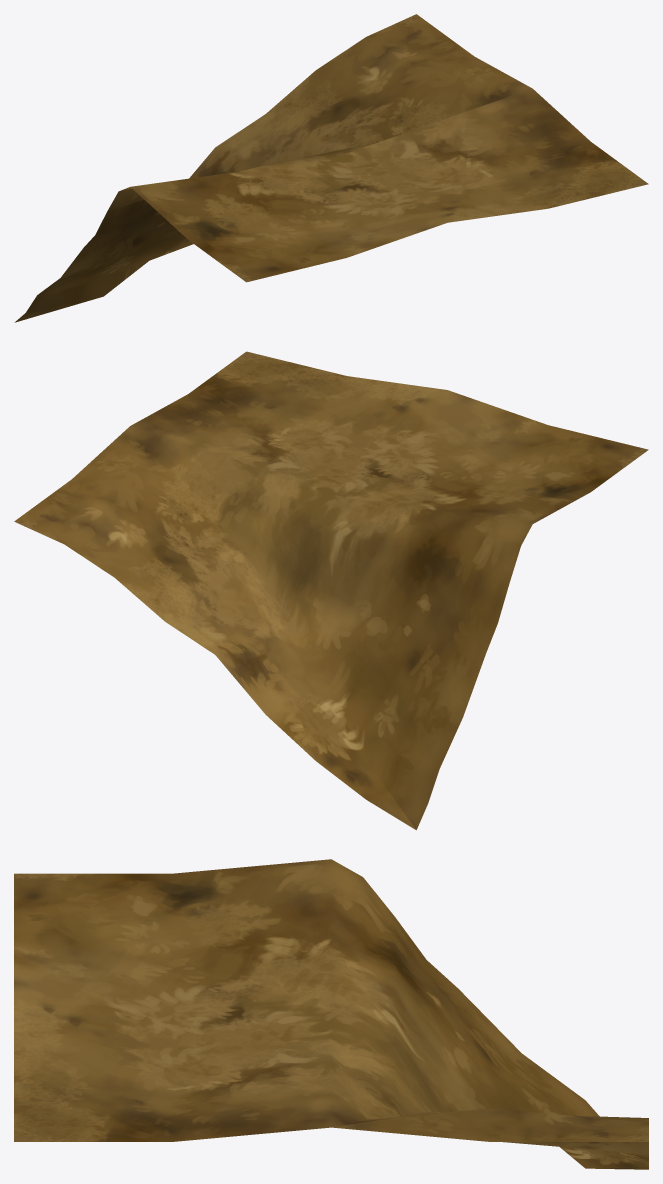
Rendered from Slope_Level_Incline_006.fbx.
3 renders of one model, top to bottom at view 1: azimuth 30°, elevation 25°; view 2: azimuth 150°, elevation 25°; view 3: azimuth 270°, elevation 25°, orthographic. The views are drawn at different scales.
Visible parts, largest first — view 1: Slope_Level_Incline_006; view 2: Slope_Level_Incline_006; view 3: Slope_Level_Incline_006.
Boxes of the visible parts, x1,y1,x2,y2 form: Slope_Level_Incline_006: (14, 14, 648, 322); Slope_Level_Incline_006: (14, 351, 648, 830); Slope_Level_Incline_006: (14, 859, 648, 1169).
Size of the model in its own units: 10 by 5.25 by 10.
Materials: 1 (1 with a texture image).
